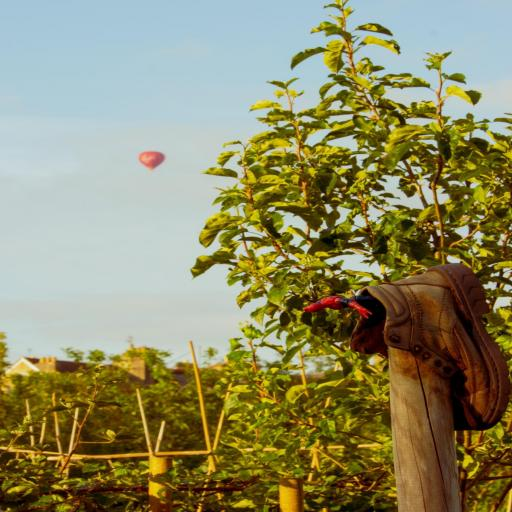hot air ballon: (138, 150, 164, 172)
